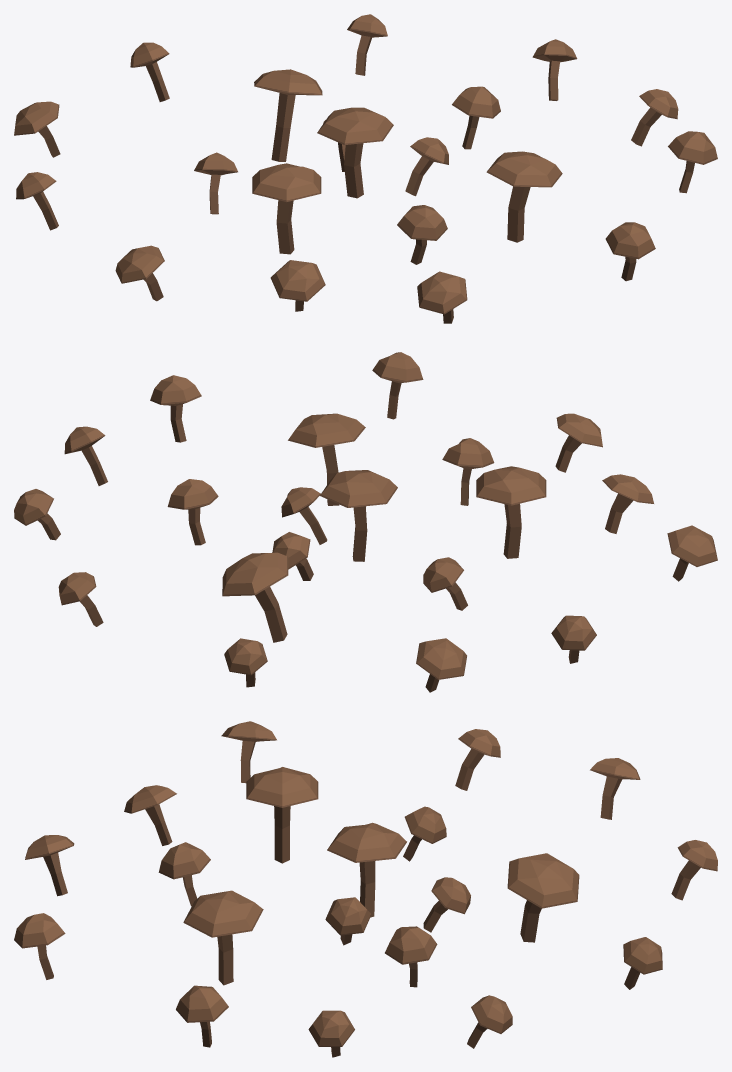
Rendered from SM_Prop_Mushroom_Sparse_02.fbx.
The picture shows the model from 3 angles, top to bottom: view 1: azimuth 30°, elevation 25°; view 2: azimuth 150°, elevation 25°; view 3: azimuth 270°, elevation 25°; orthographic projection. The views are drawn at different scales.
Visible parts, largest first — view 1: SM_Prop_Mushroom_Sparse_02; view 2: SM_Prop_Mushroom_Sparse_02; view 3: SM_Prop_Mushroom_Sparse_02.
Part boxes in pixels (bbox=[...]): SM_Prop_Mushroom_Sparse_02: bbox=[14, 14, 717, 323]; SM_Prop_Mushroom_Sparse_02: bbox=[14, 352, 717, 692]; SM_Prop_Mushroom_Sparse_02: bbox=[14, 721, 717, 1057].
Size of the model in its own units: 145 by 25.14 by 142.
1 material, 1 textured.
